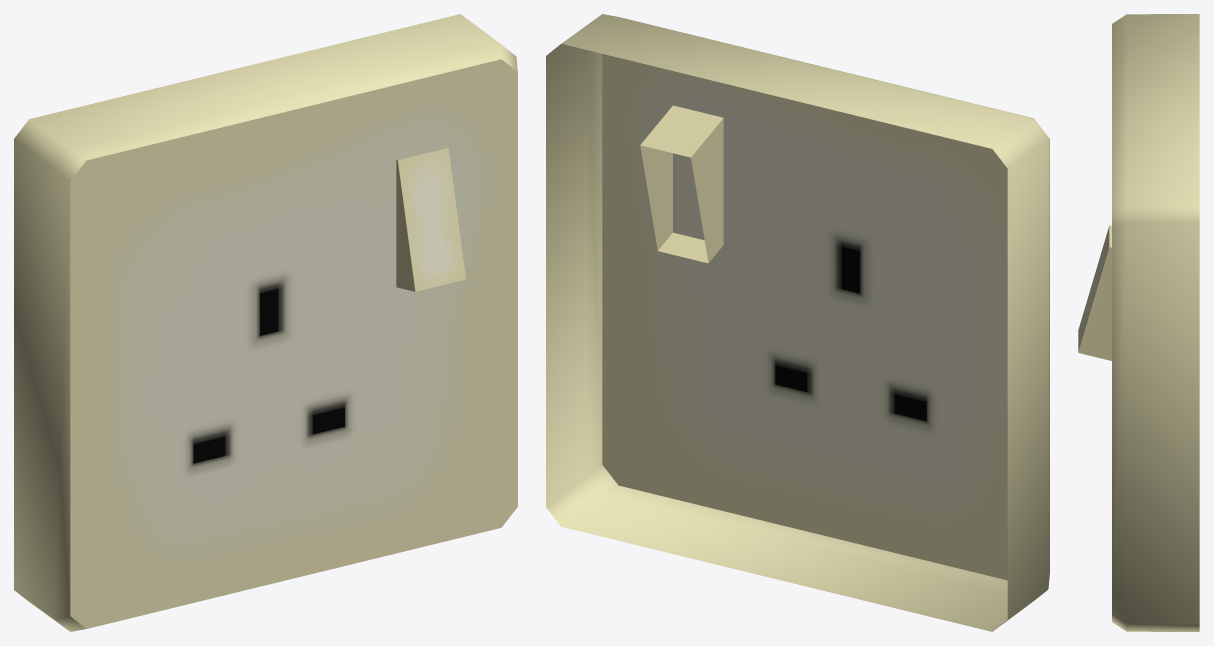
File: switch_single.FBX
3 views of the same model, side by side, from view 1: azimuth 30°, elevation 25°; view 2: azimuth 150°, elevation 25°; view 3: azimuth 270°, elevation 25° (orthographic). The views are drawn at different scales.
Visible parts, largest first — view 1: switch_single; view 2: switch_single; view 3: switch_single.
Boxes of the visible parts, x1,y1,x2,y2 form: switch_single: (14, 14, 517, 631); switch_single: (546, 14, 1049, 631); switch_single: (1078, 14, 1199, 631).
Bounding box in the file's own units: 8.5 × 8.5 × 2.18.
1 material, 1 textured.
